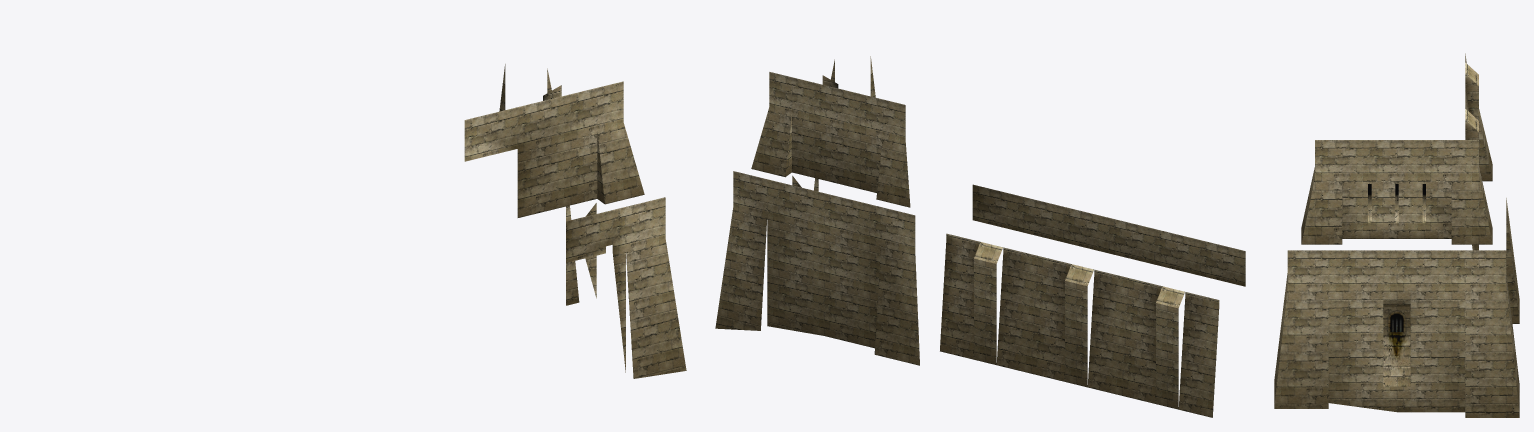
File: Mission12_ExteriorWalls02.glb
3 renders of one model, left to right at view 1: azimuth 30°, elevation 25°; view 2: azimuth 150°, elevation 25°; view 3: azimuth 270°, elevation 25°, orthographic. The views are drawn at different scales.
Visible parts, largest first — view 1: MISSION12_EXTERIORWALLS02; view 2: MISSION12_EXTERIORWALLS02; view 3: MISSION12_EXTERIORWALLS02.
Part boxes in pixels (x1,y1,x2,y2): MISSION12_EXTERIORWALLS02: (464, 64, 686, 378); MISSION12_EXTERIORWALLS02: (715, 56, 1245, 417); MISSION12_EXTERIORWALLS02: (1274, 53, 1519, 417).
Size of the model in its own units: 42 by 21.08 by 18.
Materials: 2 (2 with a texture image).
